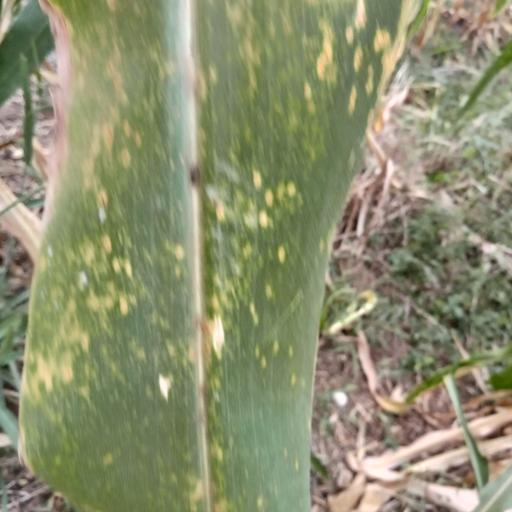Corn_Rust: (8, 0, 437, 512)
